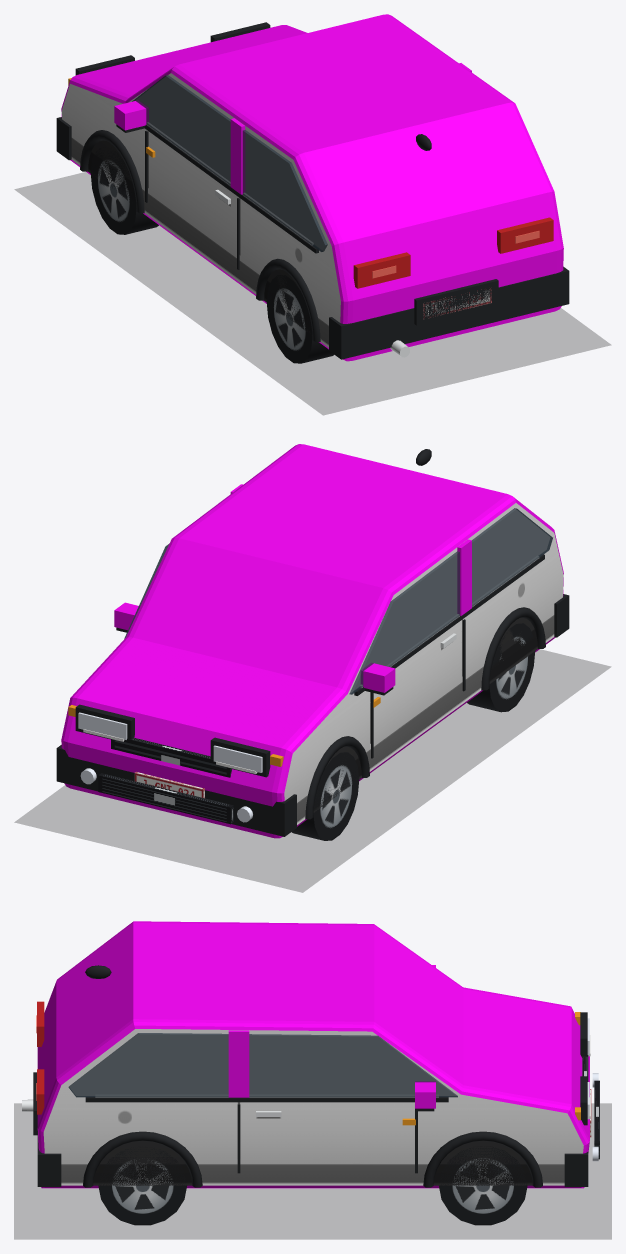
File: car-mini.obj
The picture shows the model from 3 angles, top to bottom: view 1: azimuth 30°, elevation 25°; view 2: azimuth 150°, elevation 25°; view 3: azimuth 270°, elevation 25°; orthographic projection. The views are drawn at different scales.
Visible parts, largest first — view 1: body, shadowpad.nocast, part1.nocast, part32, part11, part10, part53.nocast, part18.nocast, part26.nocast, part38.nocast, part39.nocast, part8 (+4 smaller); view 2: body, shadowpad.nocast, part1.nocast, part31, part10, part48.nocast, part11, part14.nocast, part38.nocast, part39.nocast, part8, part9.nocast (+7 smaller); view 3: body, shadowpad.nocast, part1.nocast, part12, part13, part9.nocast, part40.nocast, part41.nocast, part8, part47.nocast, part32, part31 (+1 smaller).
Boxes of the visible parts, x1,y1,x2,y2 form: body: [61, 14, 563, 361]; shadowpad.nocast: [15, 172, 610, 415]; part1.nocast: [132, 75, 327, 251]; part32: [329, 266, 569, 359]; part11: [266, 275, 334, 363]; part10: [90, 147, 158, 234]; part53.nocast: [414, 279, 498, 325]; part18.nocast: [353, 252, 410, 288]; part26.nocast: [497, 217, 553, 253]; part38.nocast: [80, 130, 144, 213]; part39.nocast: [256, 258, 320, 341]; part8: [230, 63, 471, 194]; body: [61, 444, 563, 838]; shadowpad.nocast: [14, 649, 610, 892]; part1.nocast: [124, 508, 552, 694]; part31: [56, 745, 296, 836]; part10: [292, 752, 359, 840]; part48.nocast: [98, 773, 233, 824]; part11: [467, 623, 535, 712]; part14.nocast: [111, 737, 231, 777]; part38.nocast: [305, 736, 369, 819]; part39.nocast: [481, 607, 545, 690]; part8: [230, 484, 471, 615]; part9.nocast: [354, 554, 544, 695]; body: [37, 921, 589, 1188]; shadowpad.nocast: [14, 1103, 611, 1239]; part1.nocast: [68, 1033, 457, 1097]; part12: [439, 1146, 527, 1225]; part13: [98, 1147, 186, 1225]; part9.nocast: [85, 1097, 448, 1102]; part40.nocast: [423, 1131, 542, 1187]; part41.nocast: [83, 1131, 202, 1187]; part8: [228, 1030, 249, 1097]; part47.nocast: [95, 1095, 438, 1097]; part32: [37, 1131, 61, 1186]; part31: [564, 1151, 588, 1186].
Size of the model in its own units: 2.18 by 1.55 by 4.04.
